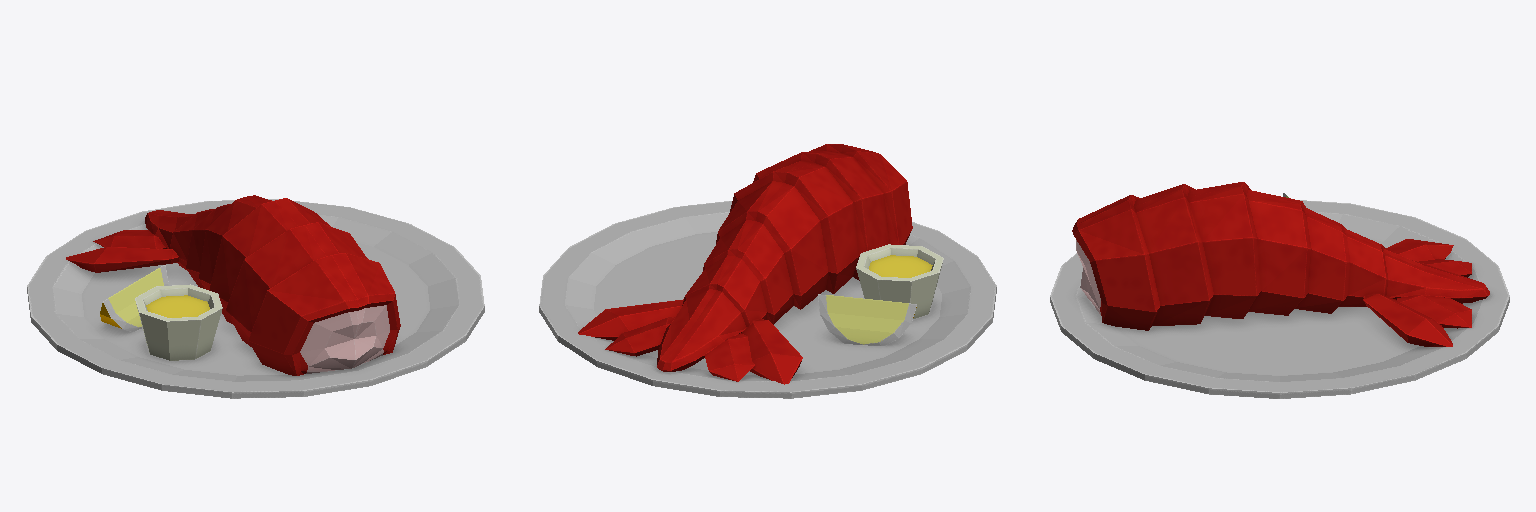
The picture shows the model from 3 angles: view 1: azimuth 30°, elevation 25°; view 2: azimuth 150°, elevation 25°; view 3: azimuth 270°, elevation 25°; orthographic projection.
Parts seen in each view (by area): view 1: LobsterTail_mesh; view 2: LobsterTail_mesh; view 3: LobsterTail_mesh.
Boxes of the visible parts, x1=… form: LobsterTail_mesh: x1=27, y1=195, x2=484, y2=398; LobsterTail_mesh: x1=539, y1=144, x2=996, y2=398; LobsterTail_mesh: x1=1050, y1=182, x2=1509, y2=398.
Bounding box in the file's own units: 2.57 × 0.8566 × 2.57.
1 materials, 1 textured.